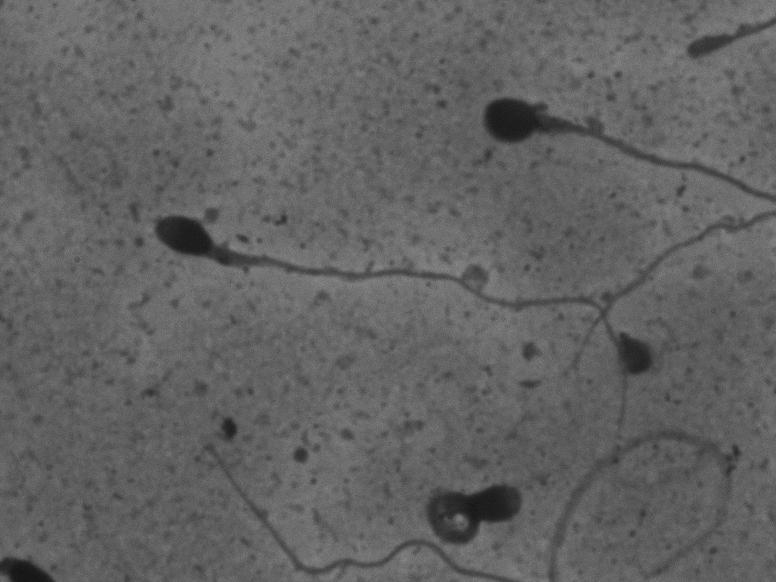Abnormal: (123, 201, 636, 478), (462, 79, 769, 220), (413, 459, 521, 558)
